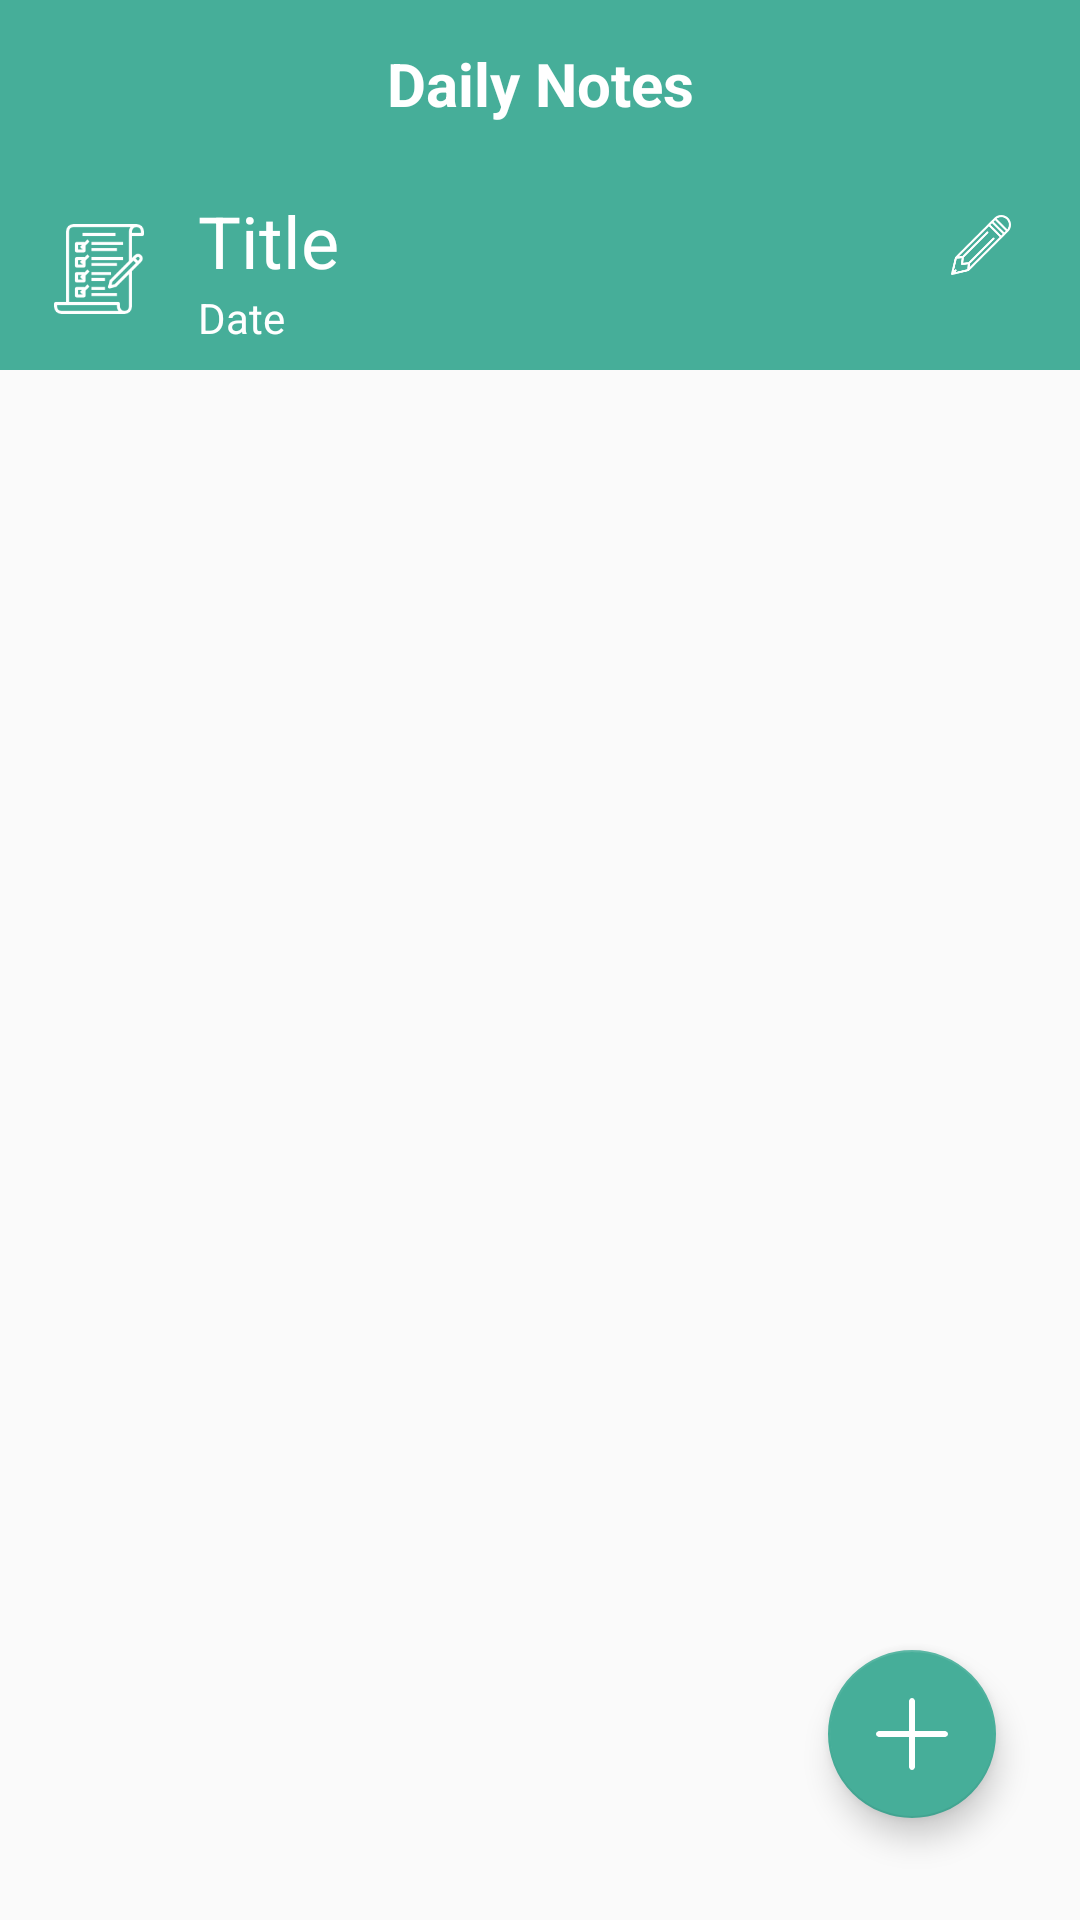

Screen size 1080px x 1920px. Icon name, then its center in pixels as (x,y):
add: (913,1742)
checklist: (99,269)
edit: (981,245)
